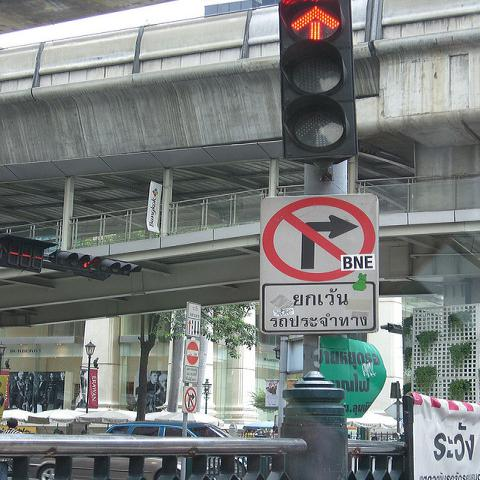car: (24, 455, 173, 479), (105, 420, 235, 438)
